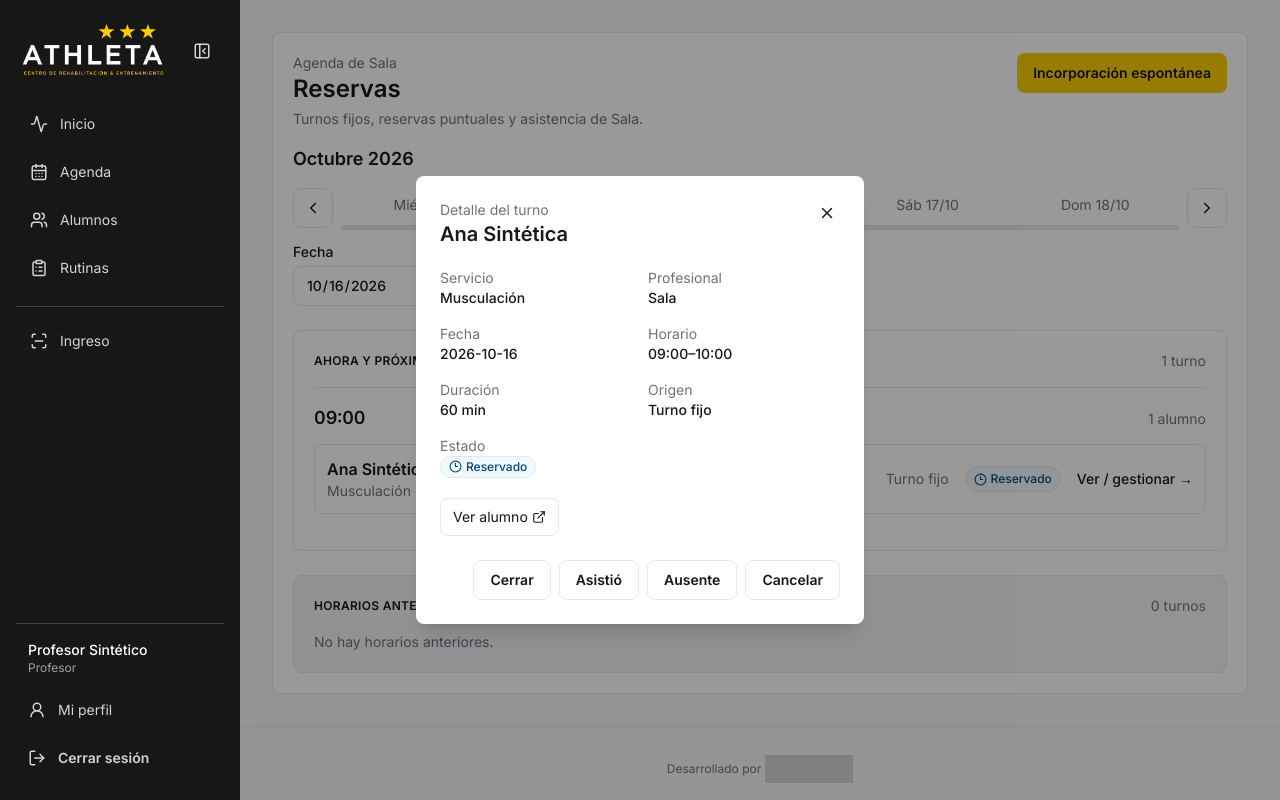
Test: does not reopen a closed initial selection after refetch
This screenshot has width=1280, height=800.
Click the button "Cerrar" at [512, 580], box [473, 560, 551, 600]
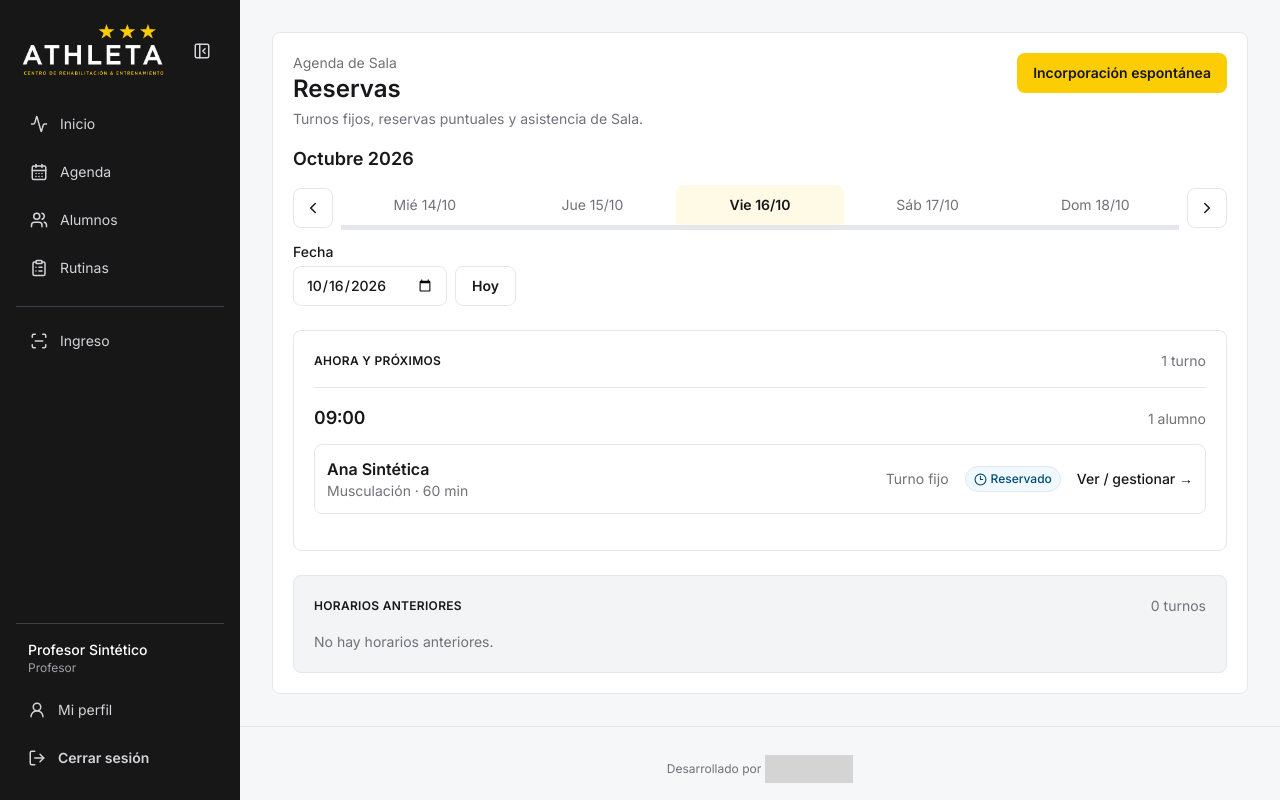
Expected: the dialog is gone
